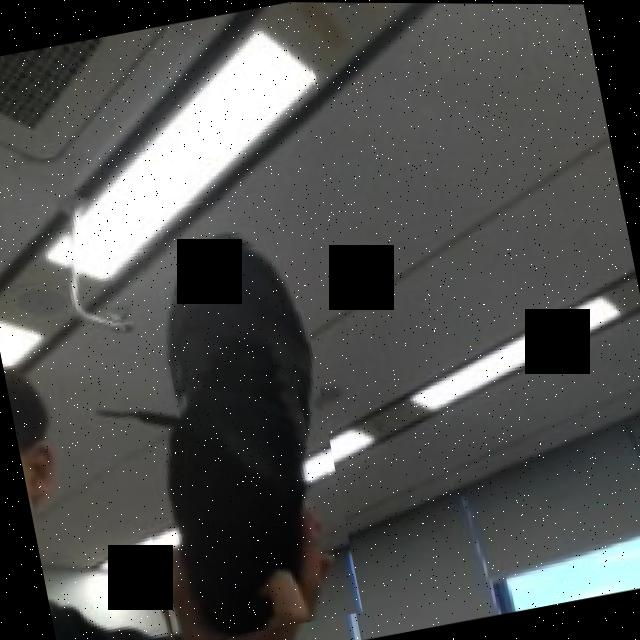shoe: (89, 219, 363, 640)
